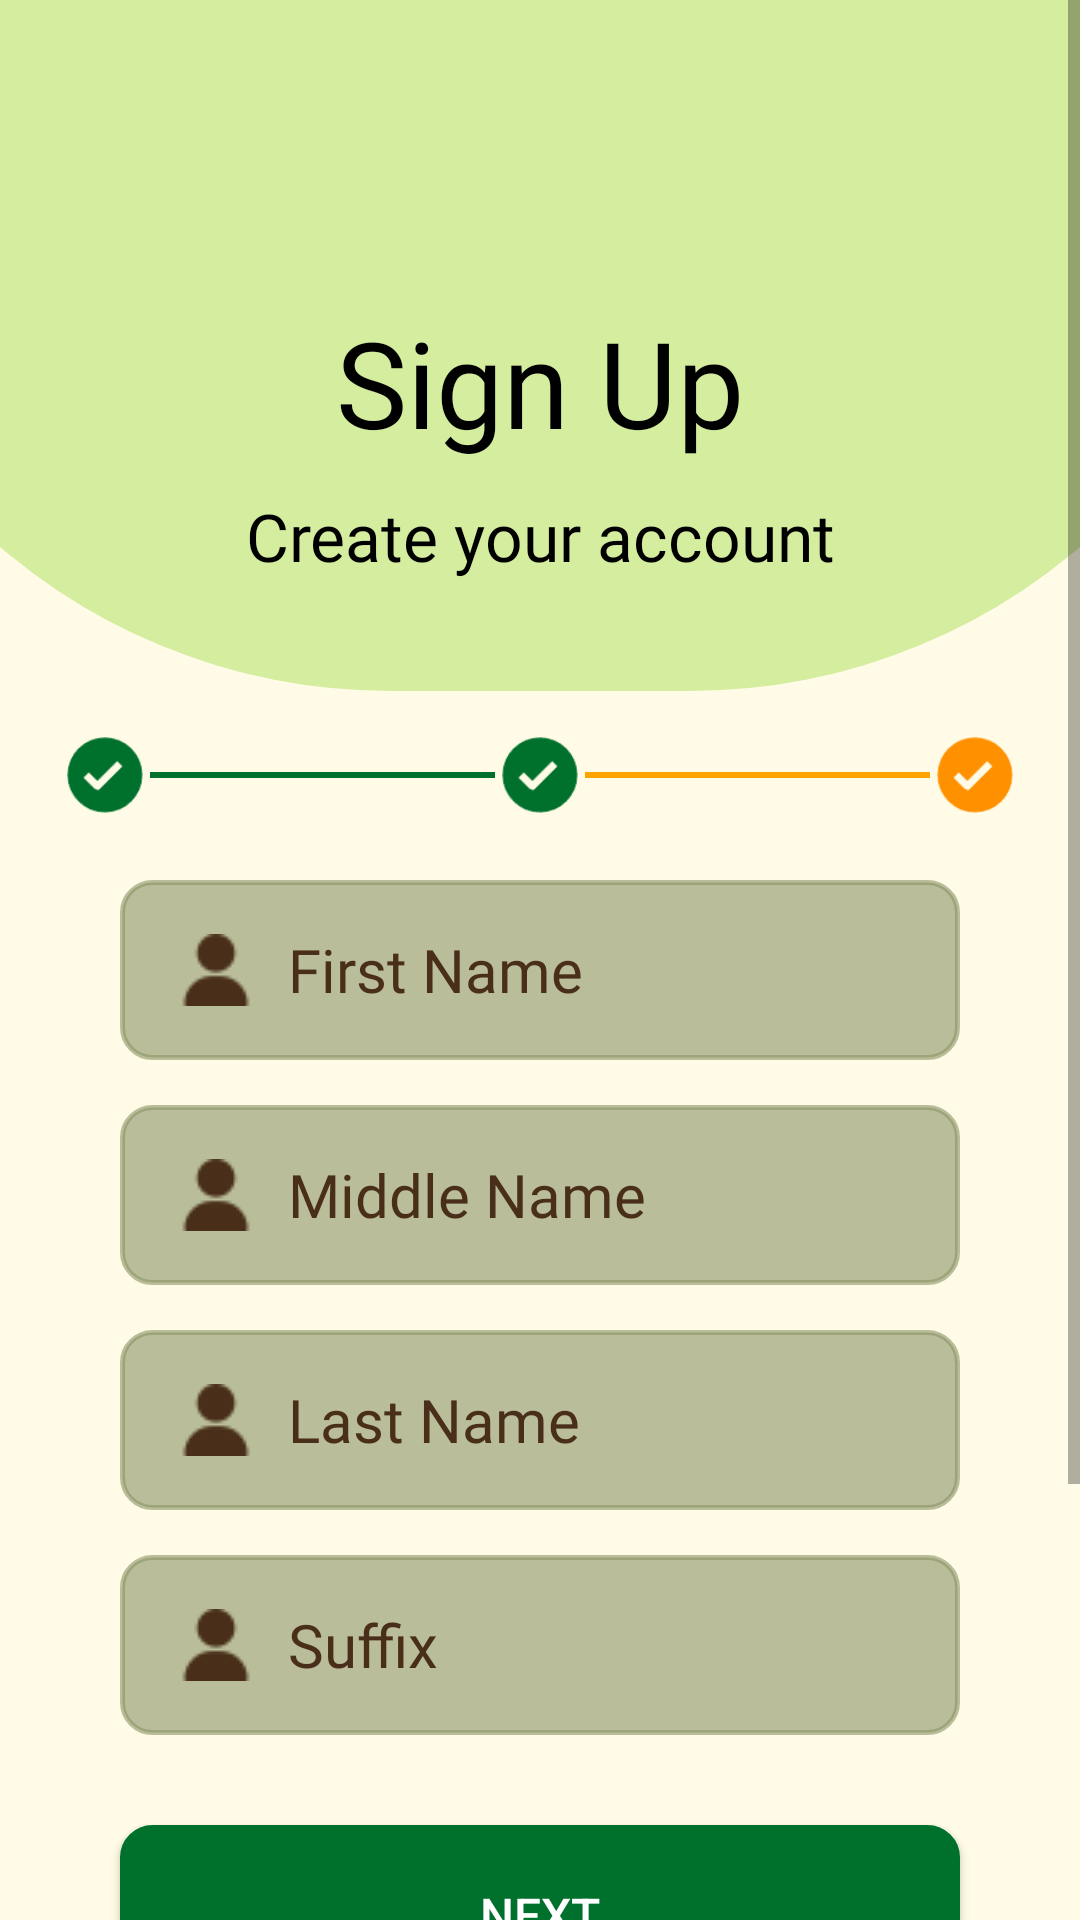

Screen size 1080px×1920px. Icon name, then its box in pixels as (x1, y1, x2, y2):
done check: (67, 737, 143, 813), (502, 737, 578, 813)
pending check: (937, 737, 1013, 813)
